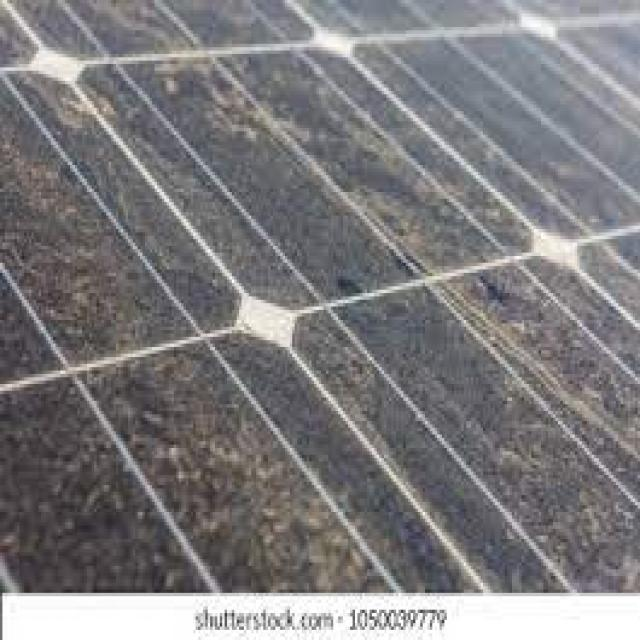faulty: (0, 0, 636, 597)
